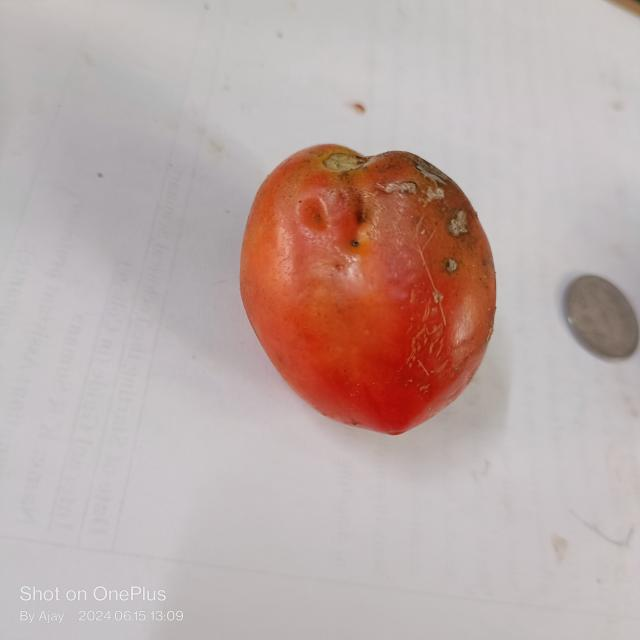Bacterial_Spot: (380, 154, 478, 272)
